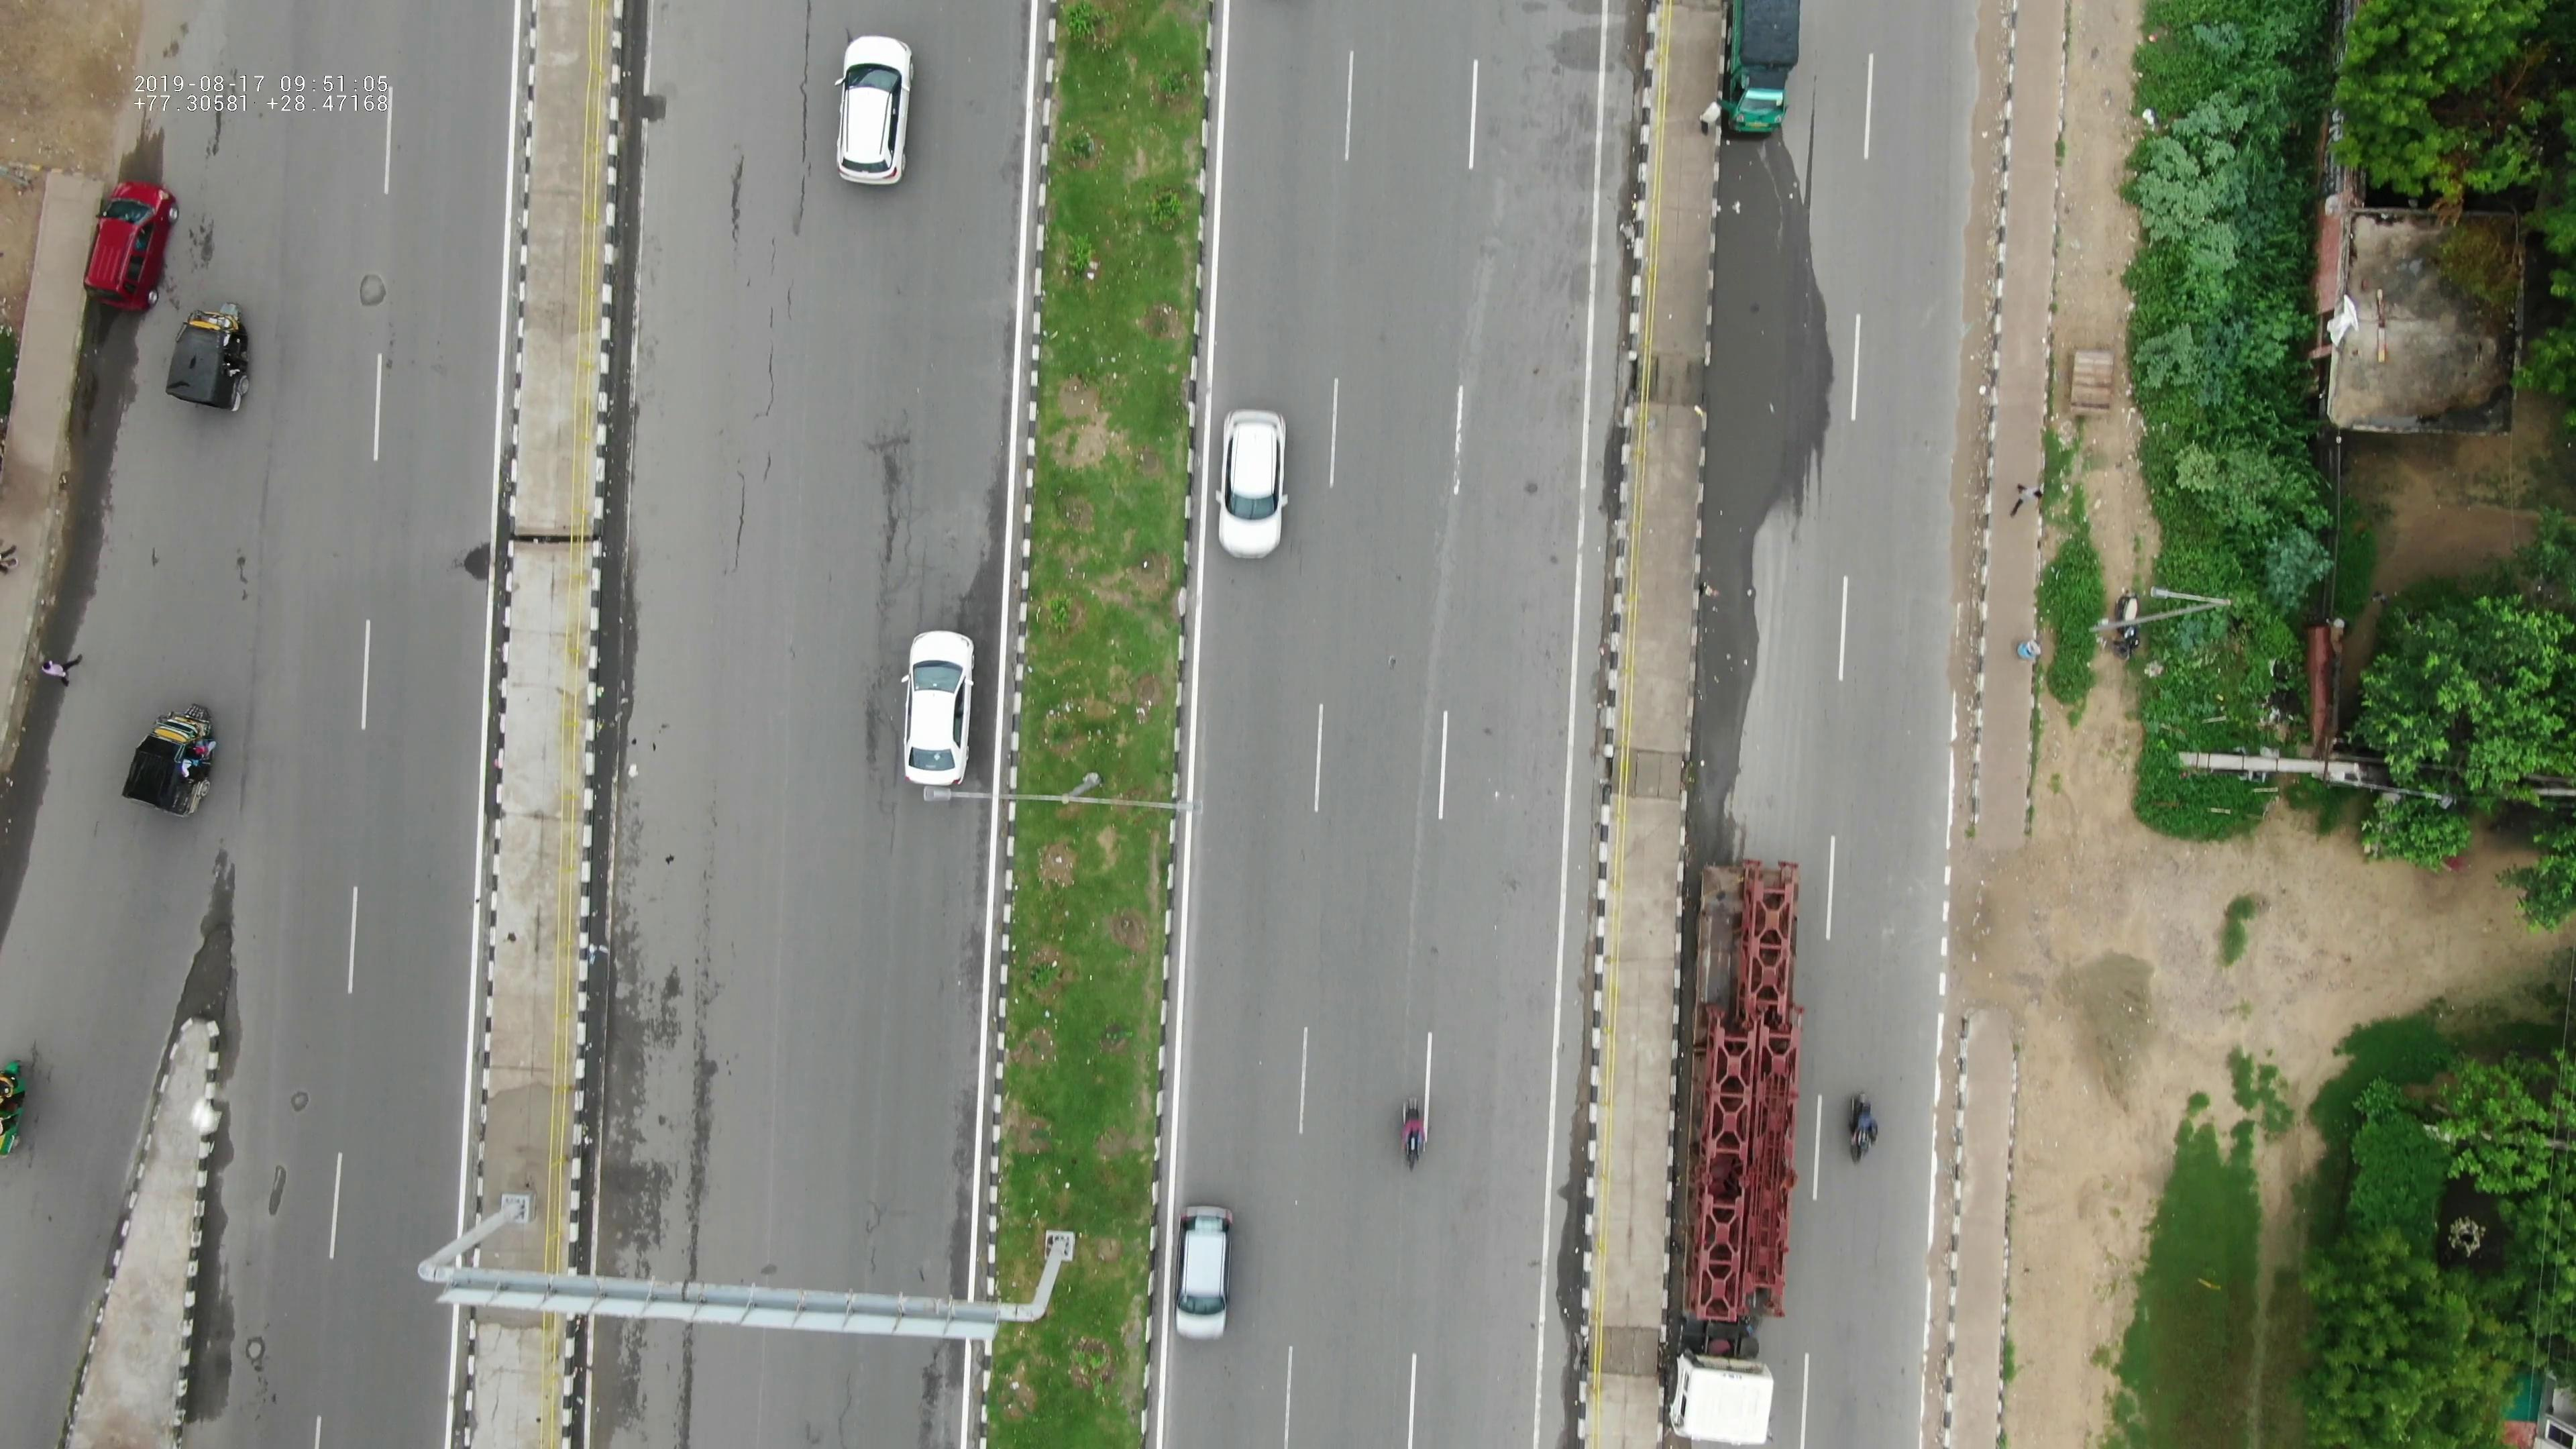Hair_cracks: (824, 407, 961, 628), (771, 0, 842, 370)
Muddy_road: (1955, 0, 2006, 329)
